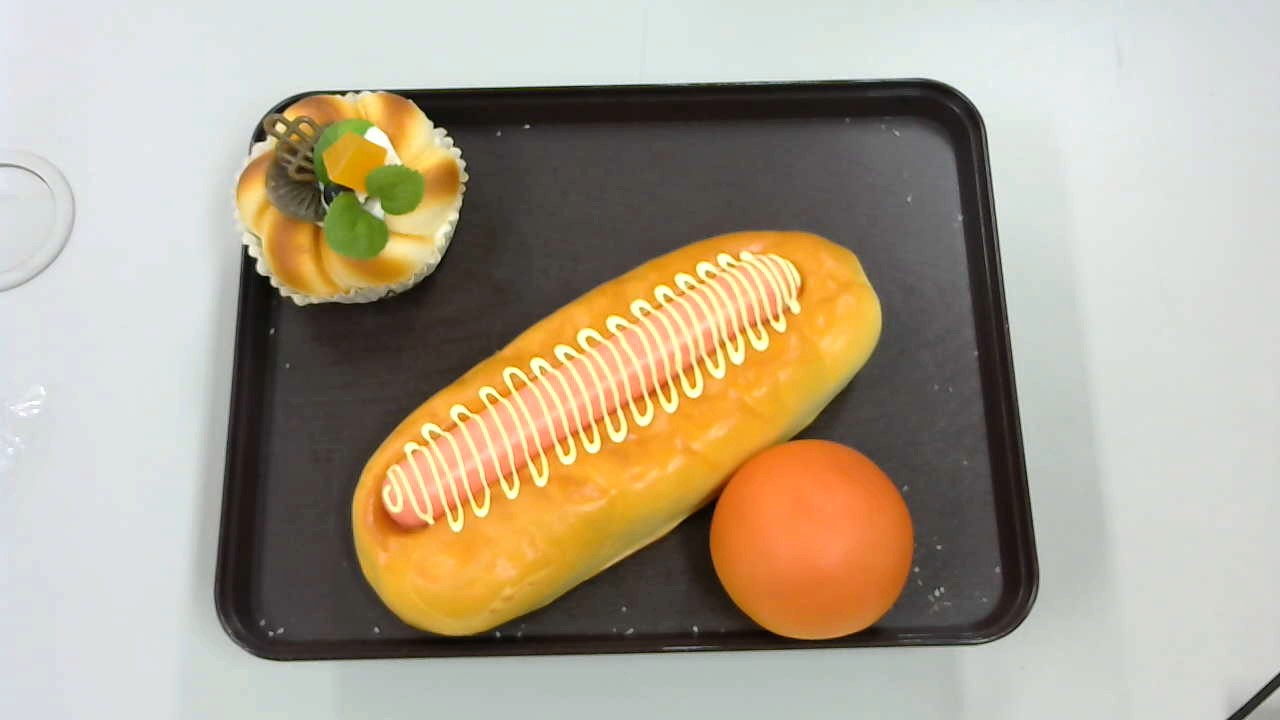bun: (711, 439, 913, 638)
fruit tart: (230, 92, 468, 305)
hot dog: (352, 230, 881, 639)
